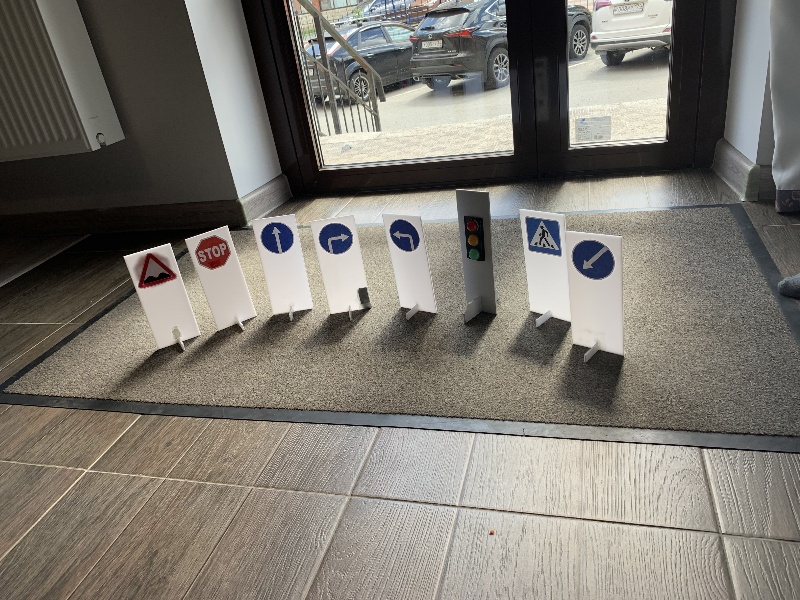Left: (384, 218, 422, 255)
Nerov: (139, 255, 176, 287)
Right: (319, 223, 351, 253)
Stop: (192, 234, 231, 270)
forw: (260, 222, 293, 257)
pesh: (525, 216, 562, 259)
prep: (572, 239, 616, 281)
